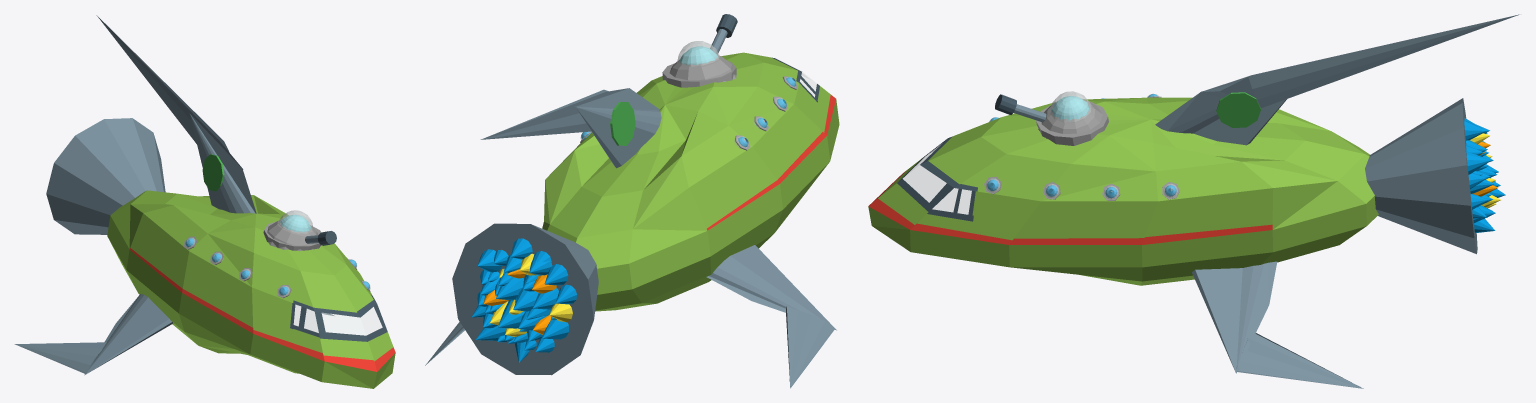
The model's file is spaceship.glb.
3 renders of one model, left to right at view 1: azimuth 30°, elevation 25°; view 2: azimuth 150°, elevation 25°; view 3: azimuth 270°, elevation 25°, orthographic. The views are drawn at different scales.
Visible parts, largest first — view 1: group127034731; view 2: group127034731; view 3: group127034731.
Part boxes in pixels (x1=…): group127034731: x1=14, y1=15, x2=395, y2=388; group127034731: x1=425, y1=14, x2=839, y2=388; group127034731: x1=868, y1=14, x2=1519, y2=388.
Size of the model in its own units: 0.6065 by 0.5251 by 1.
